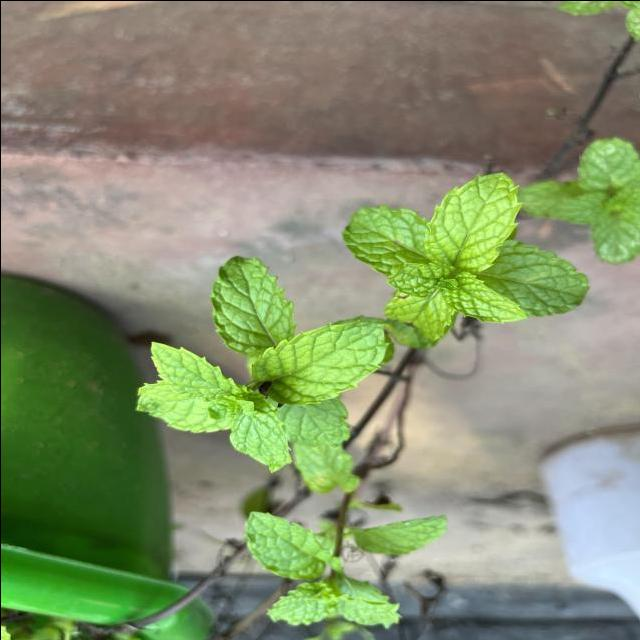Mentha spicata: (249, 316, 392, 406), (422, 170, 526, 274), (208, 253, 298, 356), (148, 338, 242, 404), (439, 272, 529, 324)
